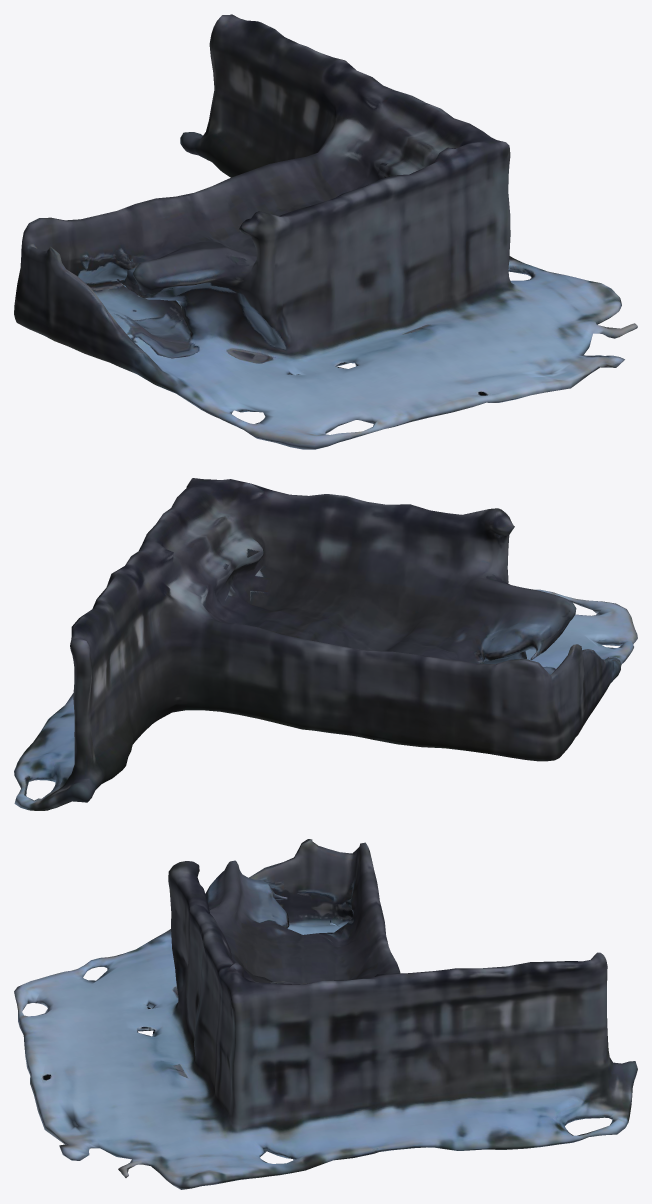
The model's file is abandoned_building8.glb.
3 views of the same model, one above another, from view 1: azimuth 30°, elevation 25°; view 2: azimuth 150°, elevation 25°; view 3: azimuth 270°, elevation 25° (orthographic). The views are drawn at different scales.
Visible parts, largest first — view 1: mesh; view 2: mesh; view 3: mesh.
Boxes of the visible parts, box(x1,y1,x2,y2) form: mesh: box(14, 14, 637, 449); mesh: box(14, 478, 637, 810); mesh: box(14, 839, 637, 1189).
Bounding box in the file's own units: 0.8825 × 0.2981 × 0.9953.
Materials: 1 (1 with a texture image).
